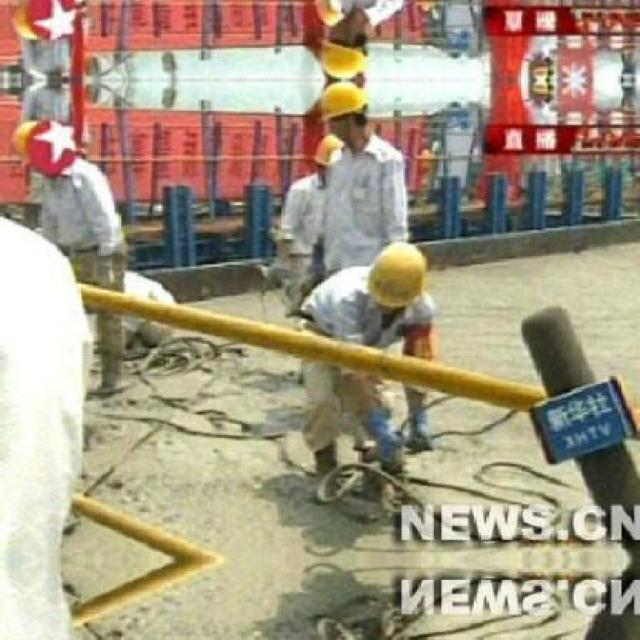hat: (363, 234, 427, 307), (314, 82, 374, 133), (6, 117, 44, 166)
